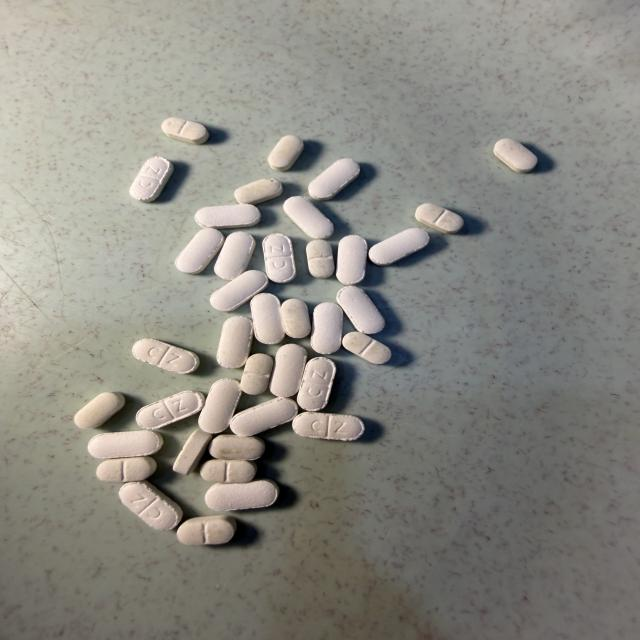pill: (119, 481, 182, 530), (136, 391, 204, 429), (230, 398, 297, 436), (210, 270, 268, 311), (132, 339, 199, 373), (199, 379, 241, 433), (205, 479, 278, 510), (369, 228, 429, 265), (337, 286, 384, 333), (176, 229, 224, 274), (308, 159, 360, 200), (284, 196, 333, 239), (297, 357, 336, 411), (88, 431, 163, 458), (293, 412, 364, 440), (214, 231, 255, 279), (270, 344, 307, 397), (130, 157, 173, 202), (217, 317, 253, 368), (74, 392, 125, 428), (177, 515, 236, 545), (173, 429, 212, 474), (251, 293, 284, 344), (263, 233, 296, 283), (311, 303, 343, 354), (96, 456, 157, 482), (343, 332, 391, 364), (336, 235, 367, 284), (195, 205, 260, 228), (494, 139, 537, 173), (210, 435, 265, 460), (200, 459, 257, 483), (416, 204, 463, 233), (240, 354, 273, 394), (268, 135, 303, 171), (162, 118, 209, 144), (235, 179, 282, 204), (281, 299, 310, 338), (307, 240, 334, 278)
